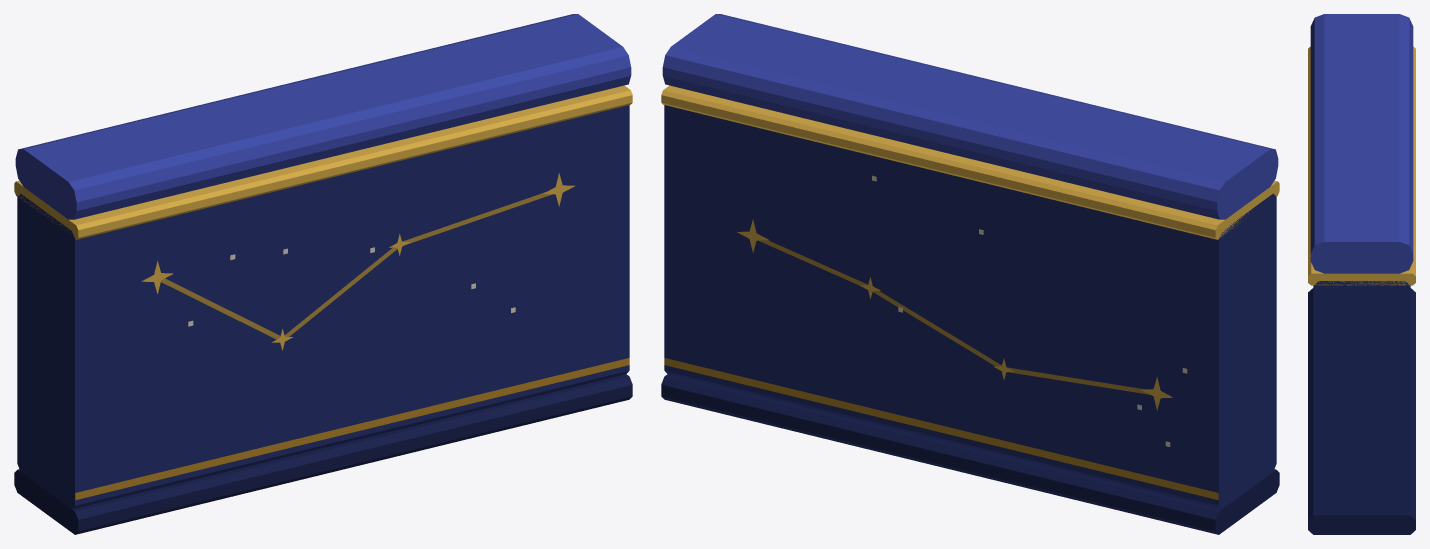
File: observatory-wall1.glb
The picture shows the model from 3 angles, left to right: view 1: azimuth 30°, elevation 25°; view 2: azimuth 150°, elevation 25°; view 3: azimuth 270°, elevation 25°; orthographic projection. The views are drawn at different scales.
Parts seen in each view (by area): view 1: observatory-wall1; view 2: observatory-wall1; view 3: observatory-wall1.
Part boxes in pixels (bbox=[...]): observatory-wall1: bbox=[14, 14, 632, 534]; observatory-wall1: bbox=[661, 14, 1279, 534]; observatory-wall1: bbox=[1308, 14, 1415, 534].
Bounding box in the file's own units: 2 × 1.2 × 0.4.
